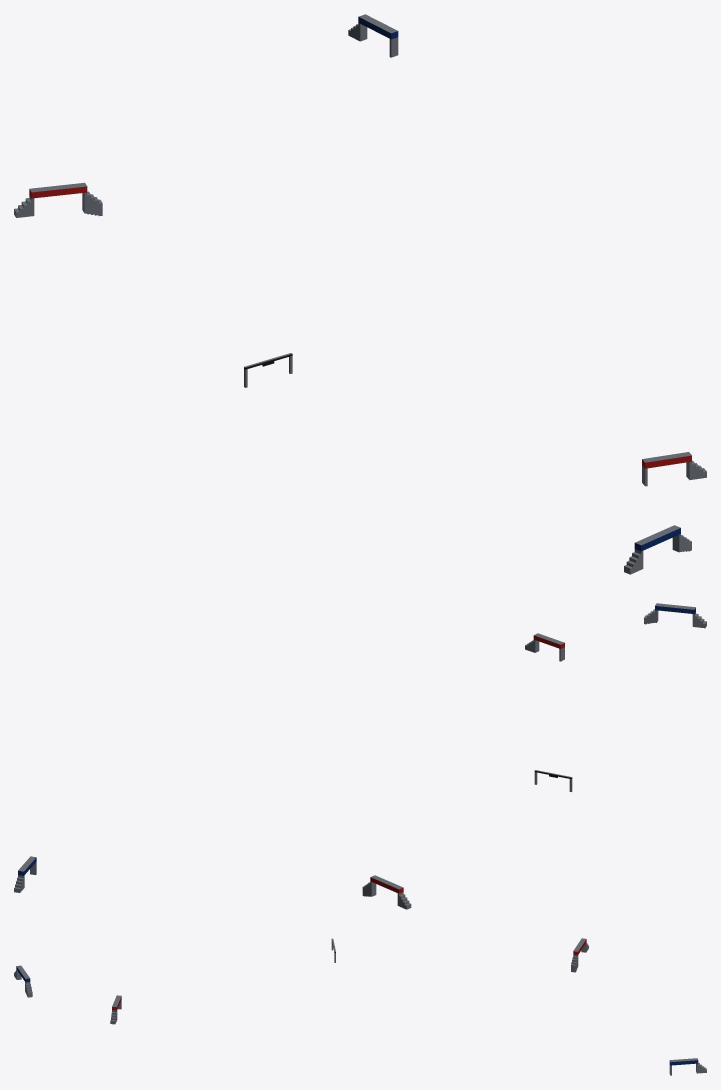
File: gantries.glb
The picture shows the model from 3 angles, top to bottom: view 1: azimuth 30°, elevation 25°; view 2: azimuth 150°, elevation 25°; view 3: azimuth 270°, elevation 25°; orthographic projection. The views are drawn at different scales.
Parts seen in each view (by area): view 1: chunk_0_0; view 2: chunk_0_0; view 3: chunk_0_0.
Boxes of the visible parts, x1,y1,x2,y2 form: chunk_0_0: [14, 14, 706, 574]; chunk_0_0: [14, 603, 706, 909]; chunk_0_0: [14, 938, 706, 1075].
Size of the model in its own units: 174 by 12.22 by 412.
